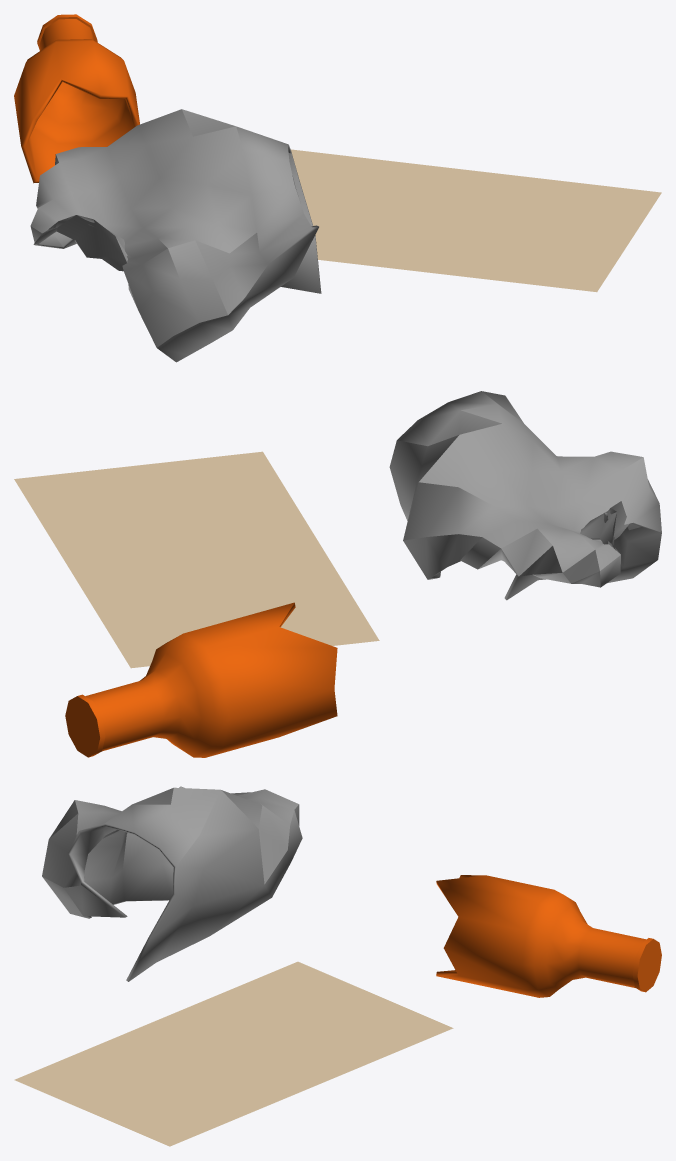
Rendered from trashes.glb.
The picture shows the model from 3 angles, top to bottom: view 1: azimuth 30°, elevation 25°; view 2: azimuth 150°, elevation 25°; view 3: azimuth 270°, elevation 25°; orthographic projection. The views are drawn at different scales.
Visible parts, largest first — view 1: trashes1; view 2: trashes1; view 3: trashes1.
Boxes of the visible parts, x1,y1,x2,y2 form: trashes1: (14,14,661,362); trashes1: (14,391,661,757); trashes1: (14,786,661,1146).
Size of the model in its own units: 0.8049 by 0.2386 by 0.8266.
